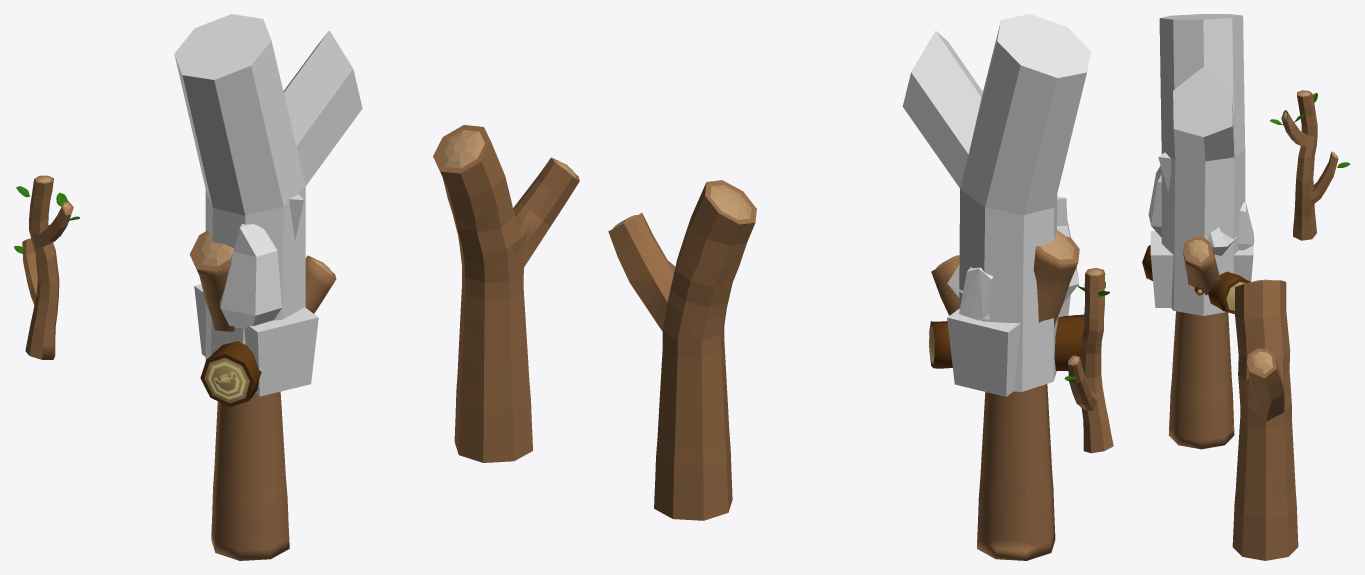
File: bath chair contour.fbx
3 views of the same model, side by side, from view 1: azimuth 30°, elevation 25°; view 2: azimuth 150°, elevation 25°; view 3: azimuth 270°, elevation 25° (orthographic). The views are drawn at different scales.
Parts seen in each view (by area): view 1: branch, wood 2 contour.003, Cylinder.004, bathchair contour, branch 04 contour.006, wood; view 2: branch, wood 2 contour.003, bathchair contour, Cylinder.004, wood, branch b, branch 04 contour.006; view 3: branch, wood 2 contour.003, Cylinder.004, bathchair contour, wood, branch 04 contour.006, branch b.
Boxes of the visible parts, bbox=[...] form: branch: bbox=[189, 125, 579, 560]; wood 2 contour.003: bbox=[174, 14, 362, 360]; Cylinder.004: bbox=[14, 175, 79, 359]; bathchair contour: bbox=[194, 284, 318, 396]; branch 04 contour.006: bbox=[220, 224, 281, 328]; wood: bbox=[200, 341, 261, 406]; branch: bbox=[608, 180, 1079, 560]; wood 2 contour.003: bbox=[902, 14, 1090, 391]; bathchair contour: bbox=[947, 295, 1070, 396]; Cylinder.004: bbox=[1064, 268, 1113, 453]; wood: bbox=[929, 314, 1084, 370]; branch b: bbox=[959, 267, 993, 320]; branch 04 contour.006: bbox=[947, 196, 1078, 303]; branch: bbox=[1168, 236, 1298, 560]; wood 2 contour.003: bbox=[1159, 14, 1245, 315]; Cylinder.004: bbox=[1270, 90, 1350, 240]; bathchair contour: bbox=[1150, 231, 1253, 307]; wood: bbox=[1142, 245, 1250, 314]; branch 04 contour.006: bbox=[1148, 165, 1237, 255]; branch b: bbox=[1158, 152, 1254, 250].
Bounding box in the file's own units: 1917 × 1818 × 808.
